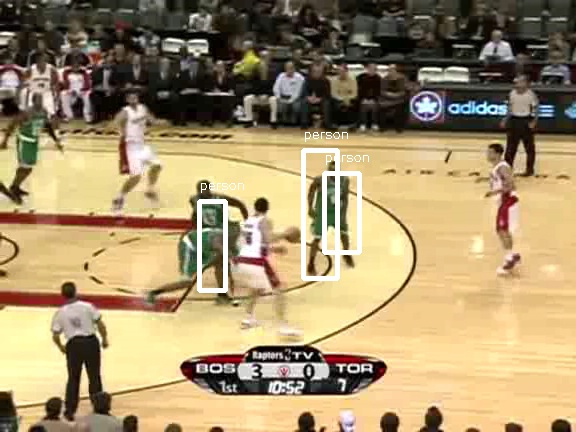person: (315, 165, 349, 246), (314, 165, 348, 246), (316, 165, 350, 246), (315, 164, 349, 245), (315, 166, 349, 247)
target_negative: (199, 209, 497, 429), (139, 19, 210, 351), (10, 71, 239, 152), (430, 178, 553, 319), (375, 183, 569, 197)
